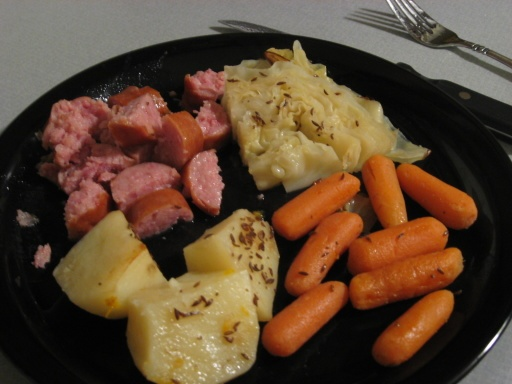background: (29, 23, 382, 230)
